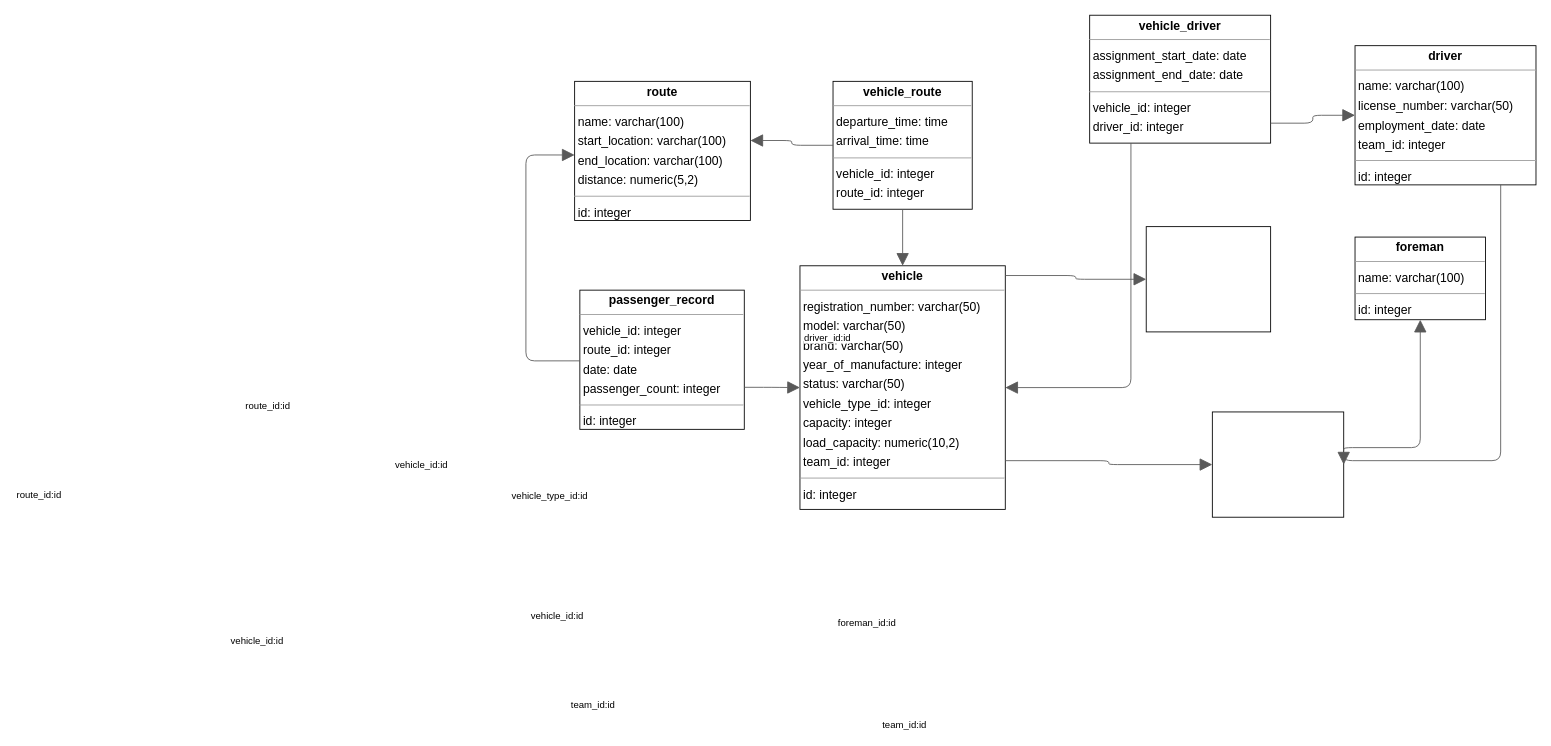
This 1551x746 diagram has some shape labels left out. The box of each missing label's shape, as (x1, y1, x2, y2) in pixels:
team name: varchar(100) foreman_id: integer id: integer: (1211, 411, 1344, 517)
vehicle_type name: varchar(50) description: text id: integer: (1145, 226, 1271, 332)
